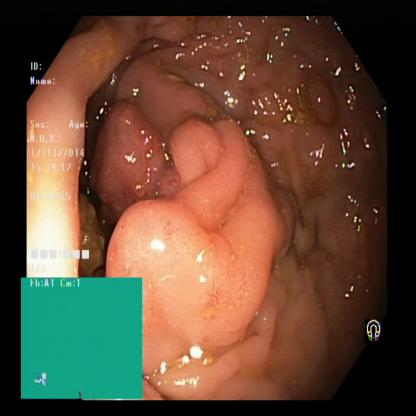Labels: (20, 276, 144, 403), (27, 57, 92, 274), (360, 316, 387, 341)
Polyps: (121, 213, 253, 336), (103, 114, 168, 200)
